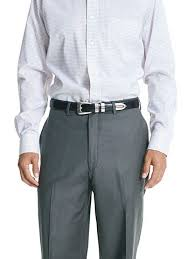F_belt: (44, 92, 144, 119)
F_shirt: (16, 1, 174, 157)
